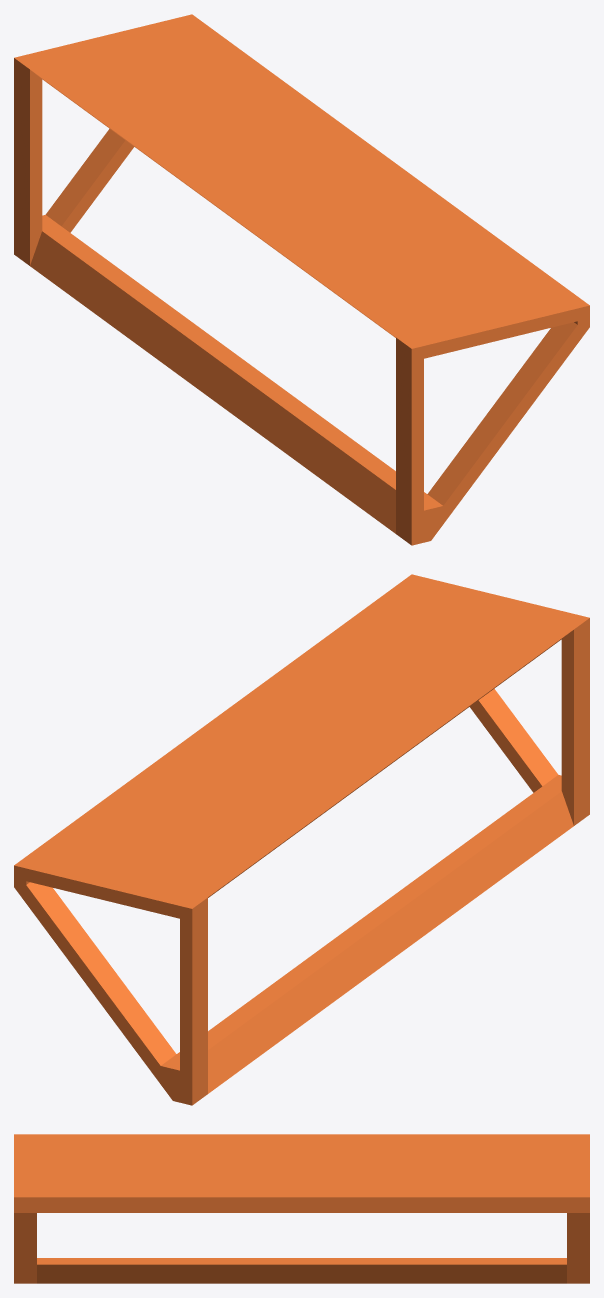
The model's file is SP_House01_VentStand01.fbx.
3 renders of one model, top to bottom at view 1: azimuth 30°, elevation 25°; view 2: azimuth 150°, elevation 25°; view 3: azimuth 270°, elevation 25°, orthographic. The views are drawn at different scales.
Parts seen in each view (by area): view 1: SP_House01_VentStand01; view 2: SP_House01_VentStand01; view 3: SP_House01_VentStand01.
Part boxes in pixels (x1,y1,x2,y2): SP_House01_VentStand01: (14,14,589,545); SP_House01_VentStand01: (14,574,589,1105); SP_House01_VentStand01: (14,1134,589,1283).
Bounding box in the file's own units: 0.2764 × 0.2915 × 1.07.
